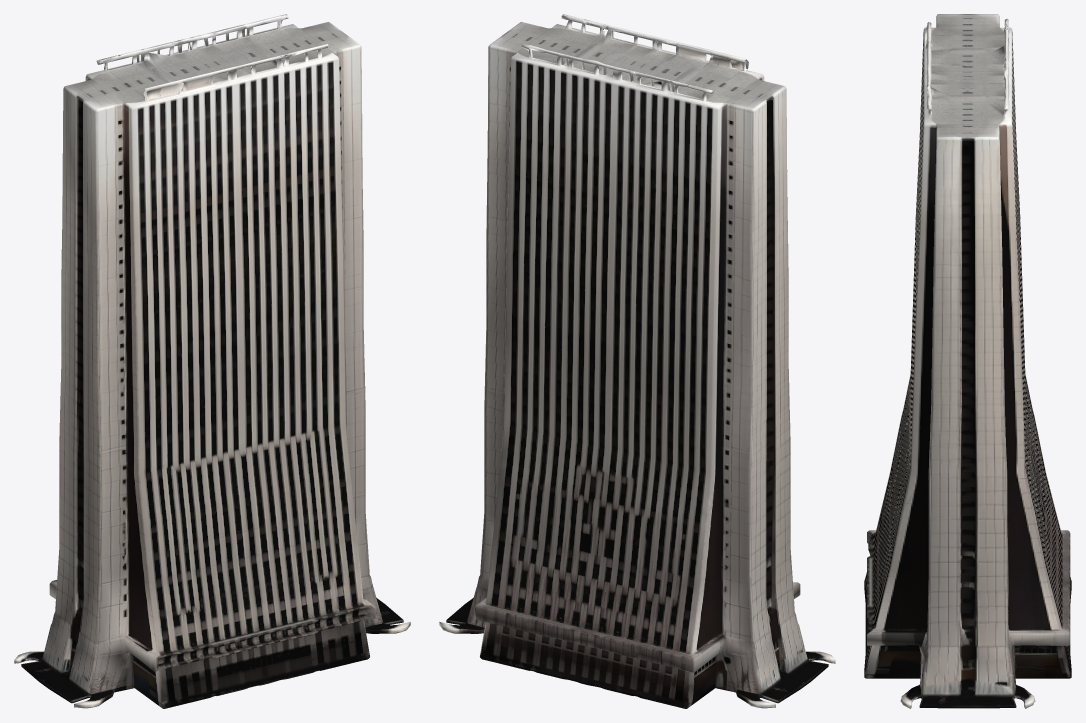
File: skyscraper_large_3.glb
The picture shows the model from 3 angles, left to right: view 1: azimuth 30°, elevation 25°; view 2: azimuth 150°, elevation 25°; view 3: azimuth 270°, elevation 25°; orthographic projection. The views are drawn at different scales.
Size of the model in its own units: 1.13 by 1.91 by 0.6301.
Materials: 1 (1 with a texture image).
